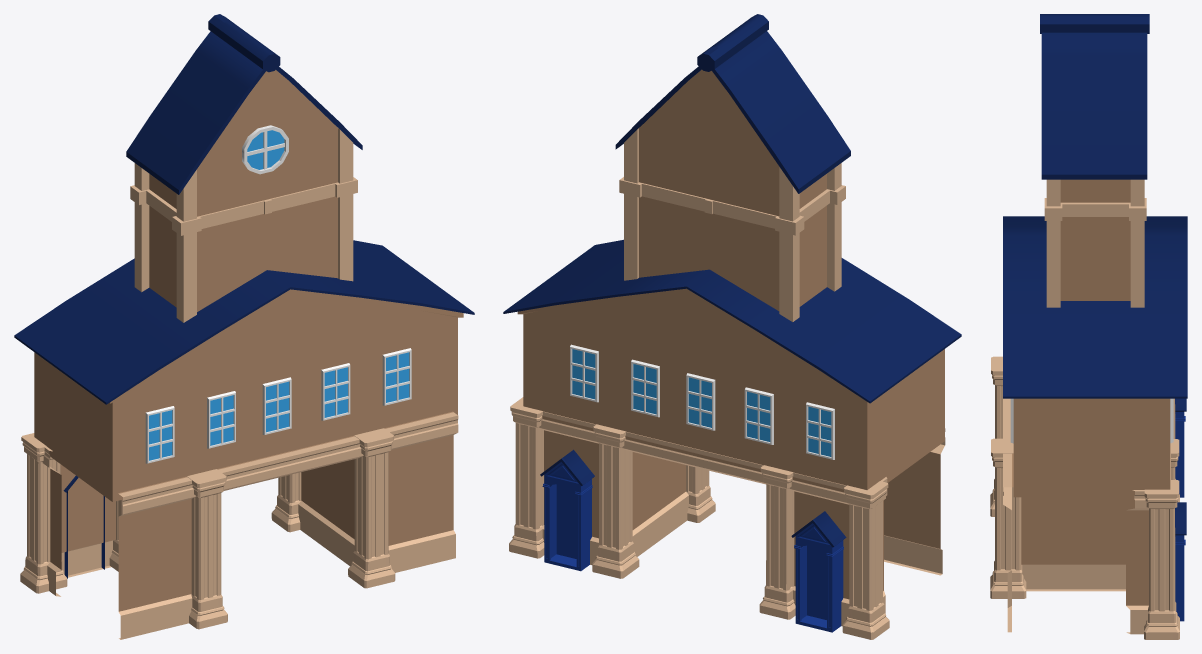
The picture shows the model from 3 angles, left to right: view 1: azimuth 30°, elevation 25°; view 2: azimuth 150°, elevation 25°; view 3: azimuth 270°, elevation 25°; orthographic projection.
Visible parts, largest first — view 1: Object003; view 2: Object003; view 3: Object003.
Part boxes in pixels (x1=…): Object003: x1=14, y1=14, x2=474, y2=639; Object003: x1=503, y1=14, x2=961, y2=639; Object003: x1=990, y1=14, x2=1187, y2=639.
Size of the model in its own units: 11.39 by 15.75 by 5.27.
